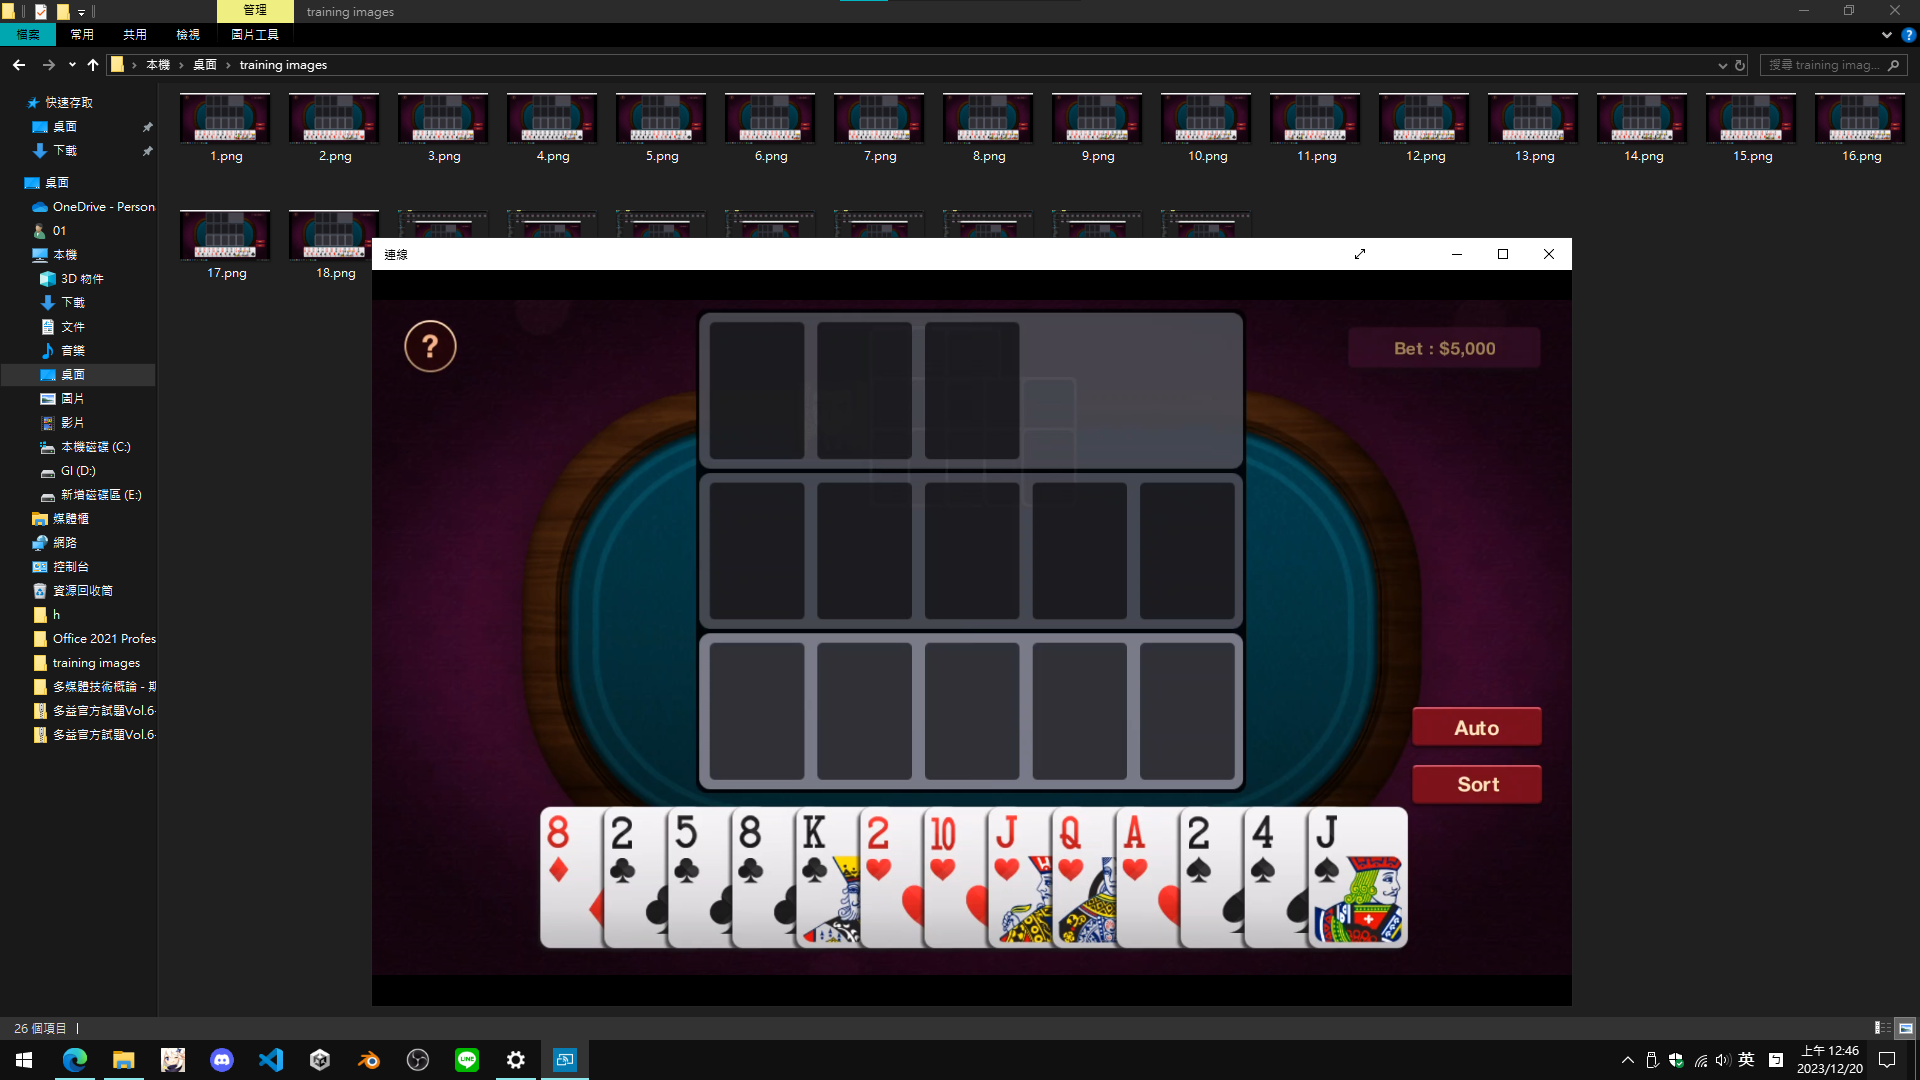10H: (928, 814, 957, 887)
2C: (609, 812, 638, 890)
2H: (864, 812, 897, 885)
2S: (1183, 812, 1218, 886)
4S: (1249, 812, 1280, 887)
5C: (674, 812, 700, 884)
8C: (737, 812, 765, 889)
8D: (545, 811, 575, 886)
AH: (1121, 811, 1150, 887)
JH: (993, 810, 1025, 886)
JS: (1313, 812, 1344, 886)
KC: (800, 812, 832, 887)
QH: (1058, 812, 1087, 885)
